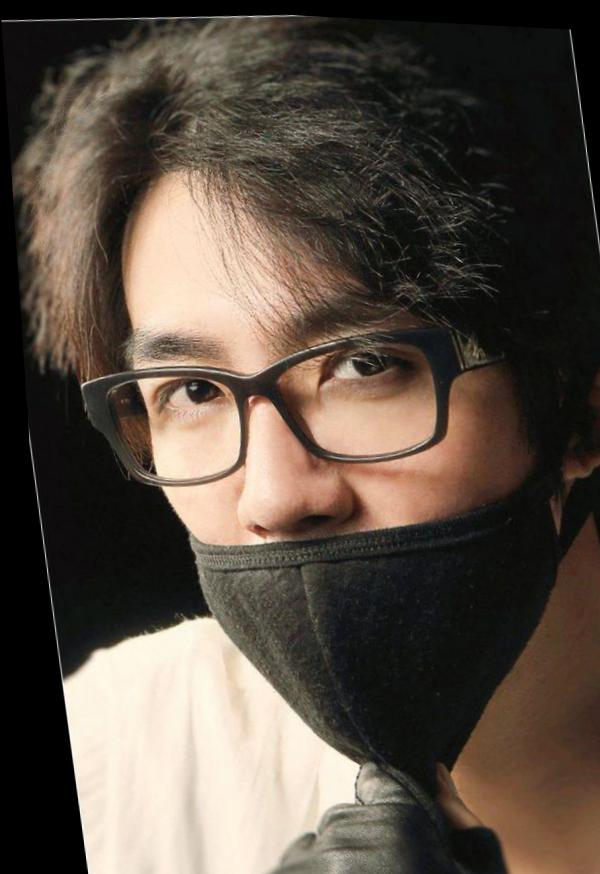WRONG: (89, 266, 587, 758)
